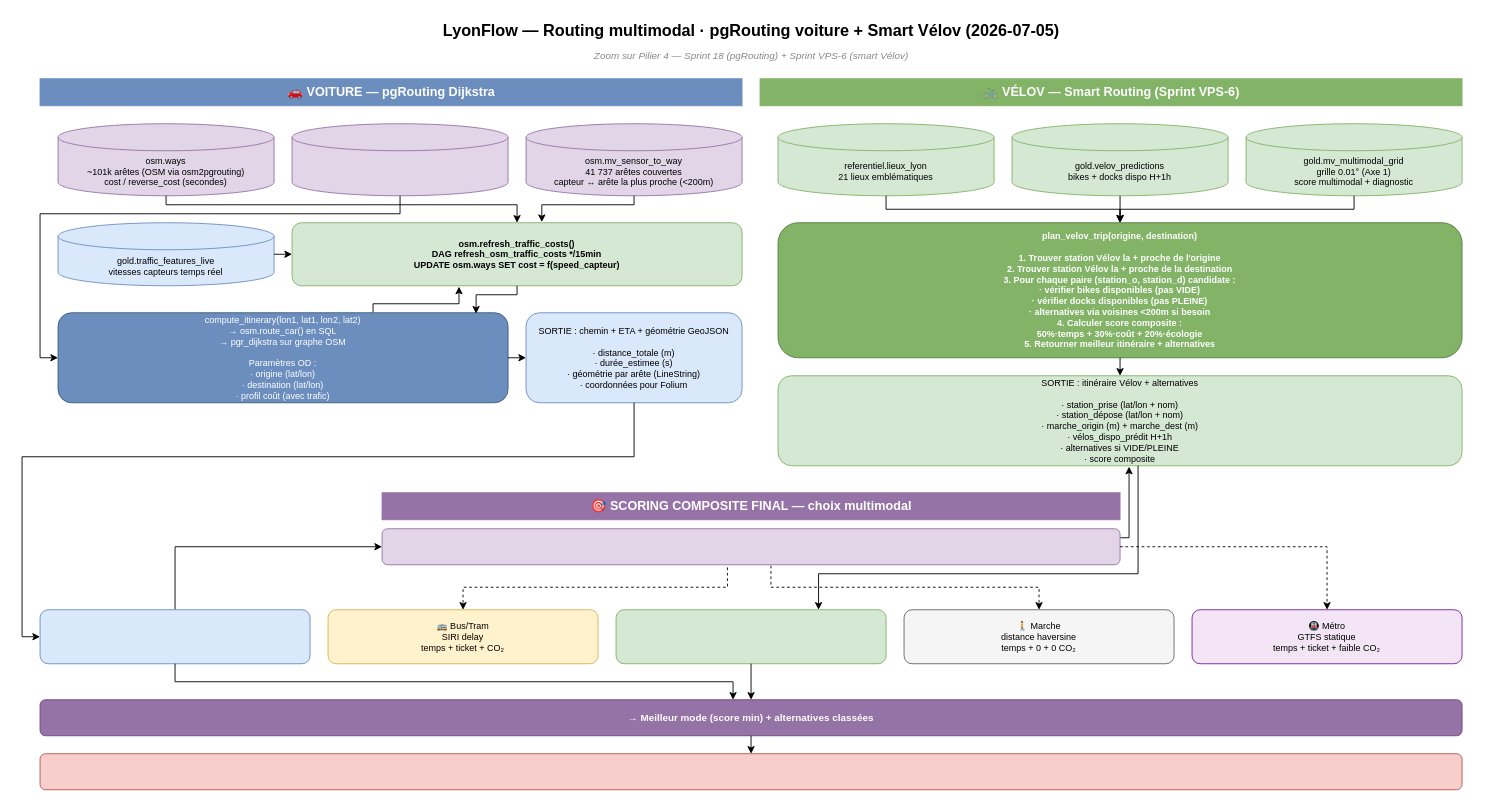
Some shapes in this 1496 by 806 pixel diagram are drawn without their labels. The shapes that lost their labels are listed below. From the top down, each one's centre as x and y in pixels, then its label:
point 399,159: osm.ways_vertices_pgr ~87k nœuds routiers
point 750,546: score(mode) = 0.5 × temps_normalisé + 0.3 × coût_normalisé + 0.2 × CO₂_normalisé
point 174,636: 🚗 Voiture pgRouting temps + essence + CO₂
point 750,636: 🚲 Vélov smart routing temps + abonnement + ~0 CO₂
point 750,771: 📱 Affiché dans le widget Usager_1 — Mon Trajet
